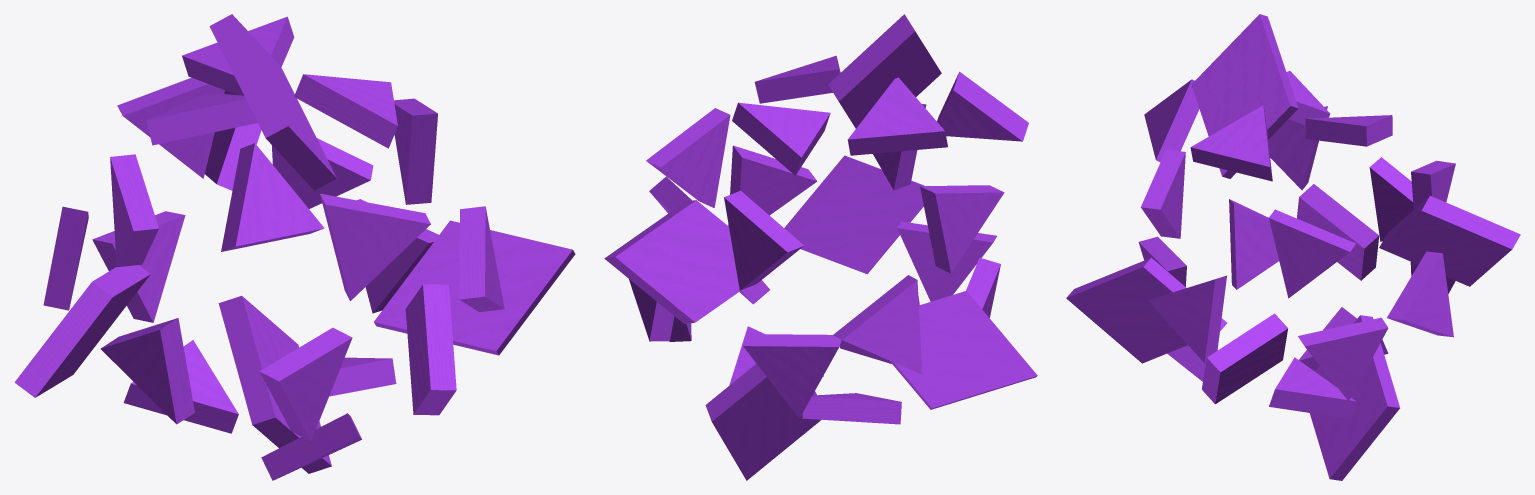
Rendered from qoid_rich.obj.
The picture shows the model from 3 angles, left to right: view 1: azimuth 30°, elevation 25°; view 2: azimuth 150°, elevation 25°; view 3: azimuth 270°, elevation 25°; orthographic projection. The views are drawn at different scales.
Visible parts, largest first — view 1: Cube.002; view 2: Cube.002; view 3: Cube.002.
Part boxes in pixels (x1=…): Cube.002: x1=14, y1=14, x2=575, y2=480; Cube.002: x1=604, y1=14, x2=1037, y2=480; Cube.002: x1=1066, y1=14, x2=1520, y2=480.
Size of the model in its own units: 1.78 by 1.79 by 1.77.
